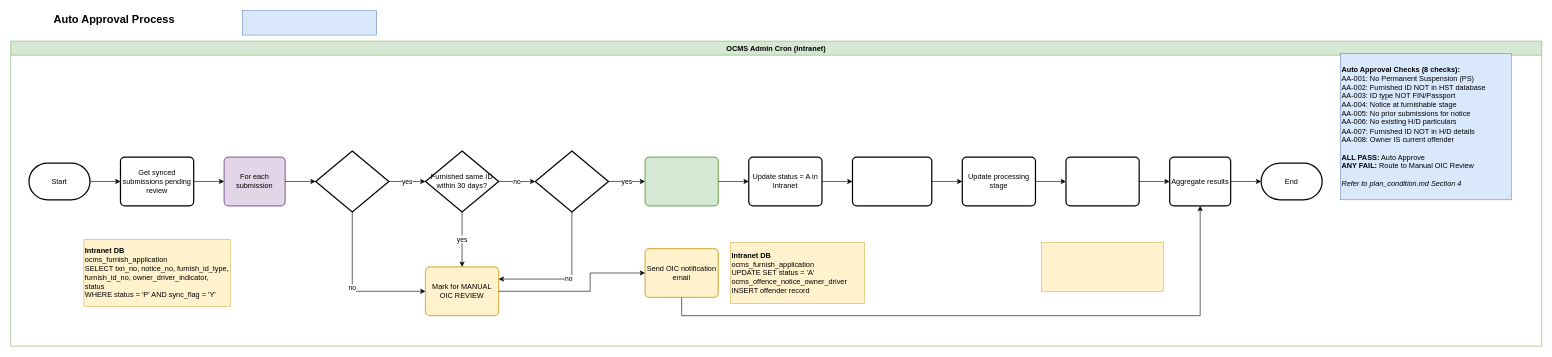
Some shapes in this 1552 by 357 pixel diagram are drawn without their labels. Here are the shapes that lost their labels. From the top down, the centre of each, then its label:
At [309,22]: "Triggered by: Sync Furnished Cron Component: ocmsadmincron".
At [352,181]: "Same ID type & ID No?".
At [571,181]: "Processing stage RD1?".
At [681,181]: "Mark for AUTO APPROVAL".
At [892,181]: "Insert into ocms_offence_notice_owner_driver".
At [1102,181]: "Update Internet DB outcome".
At [1102,266]: "Internet DB eocms_furnish_application UPDATE SET status = 'A' outcome synced".
